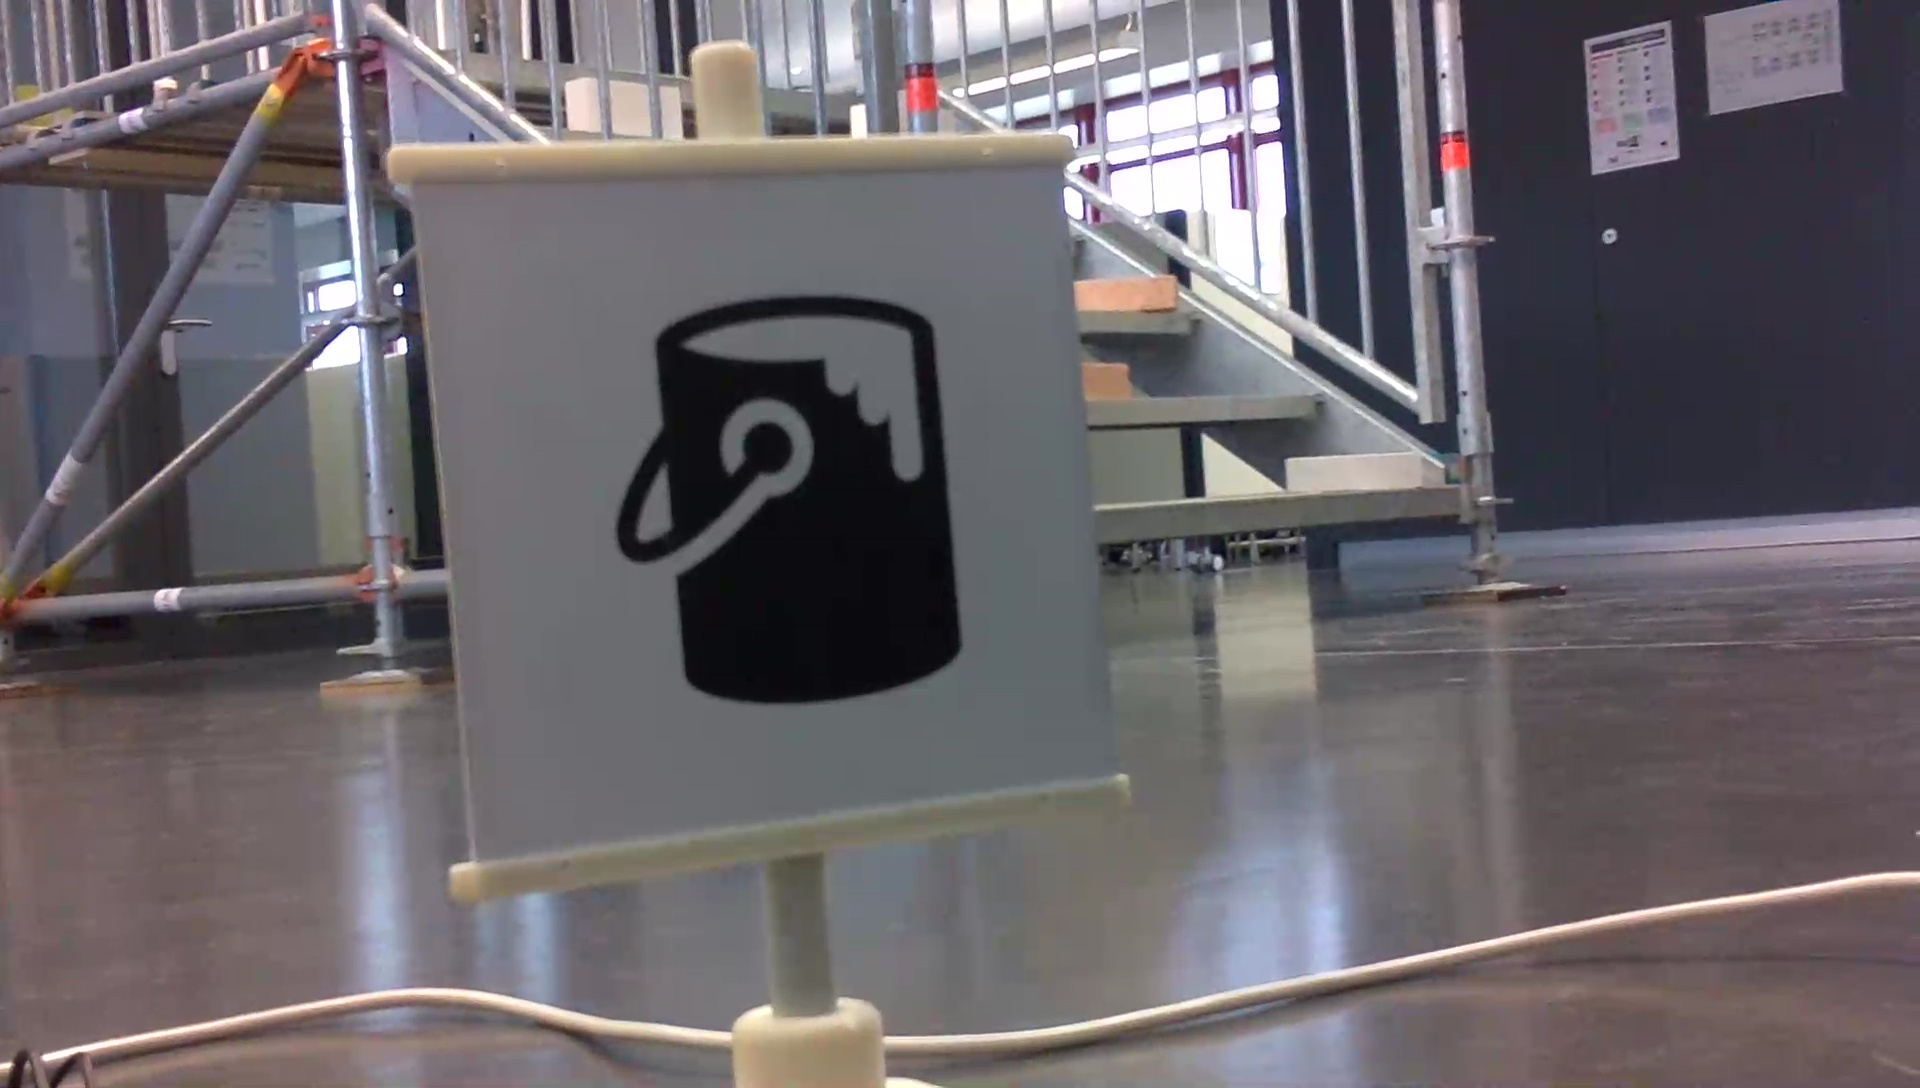brick: (1286, 452, 1420, 488), (1075, 278, 1175, 310), (1083, 365, 1127, 400)
bucket: (597, 284, 972, 720)
edge: (1097, 488, 1458, 542), (1083, 396, 1331, 426)
